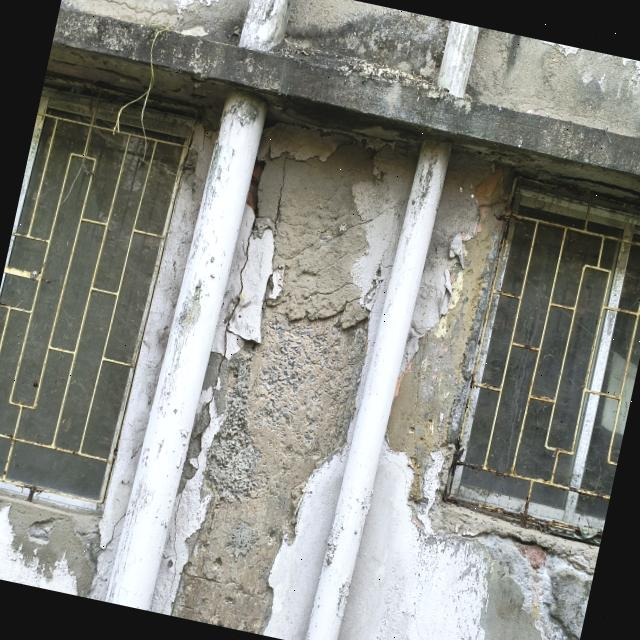Paint Peeling: (386, 149, 503, 456)
Scaling: (171, 125, 415, 632), (443, 393, 447, 397)
Spalling: (446, 495, 602, 546)
pollution -moisture induced blackening: (154, 31, 640, 177), (52, 6, 152, 64)
